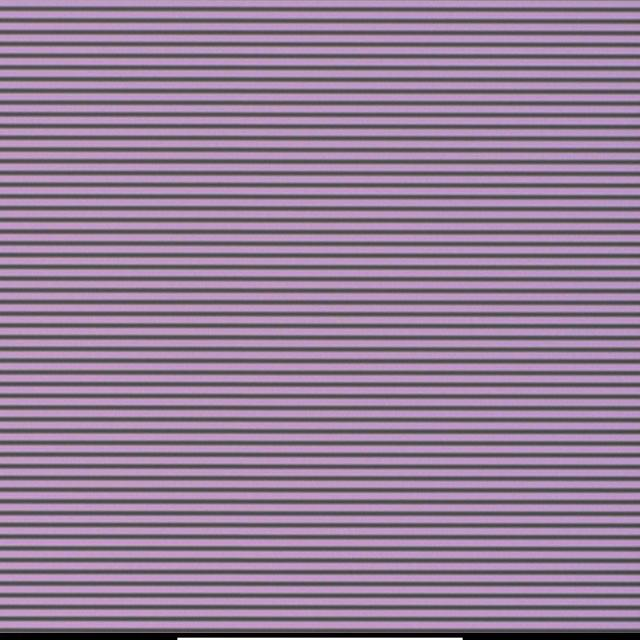nonvisual: (338, 315, 348, 326)
